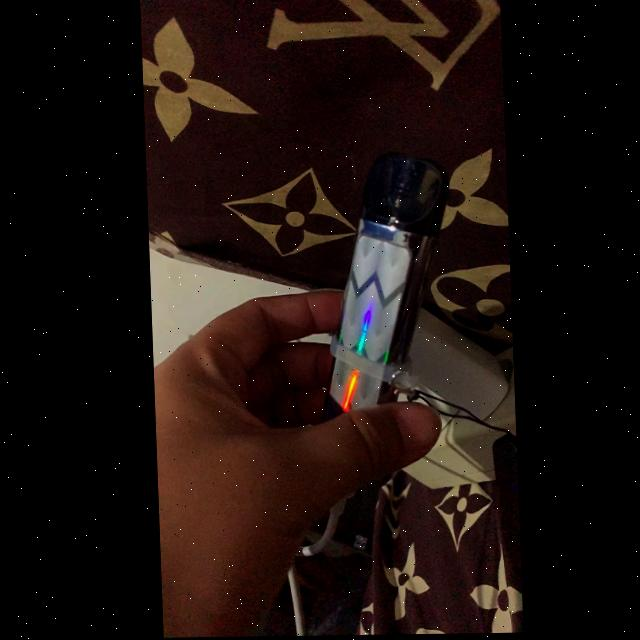vape: (315, 155, 452, 420)
